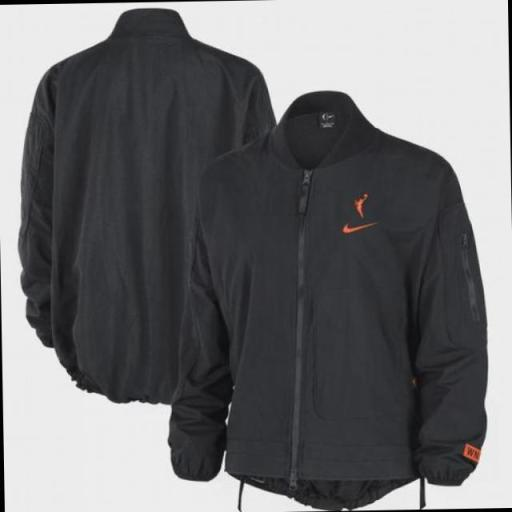Nike: (341, 222, 377, 234)
